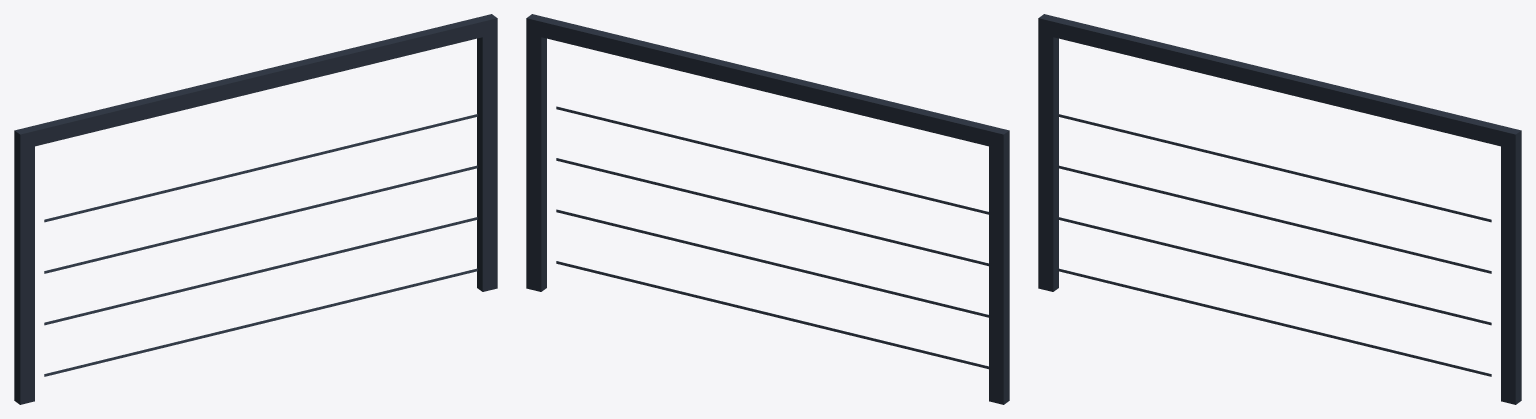
Rendered from dock-door-frame-crafted-surface.glb.
3 views of the same model, side by side, from view 1: azimuth 30°, elevation 25°; view 2: azimuth 150°, elevation 25°; view 3: azimuth 330°, elevation 25° (orthographic).
Visible parts, largest first — view 1: Authored shadows false:false; view 2: Authored shadows false:false; view 3: Authored shadows false:false.
Boxes of the visible parts, x1=… form: Authored shadows false:false: x1=14, y1=14, x2=497, y2=404; Authored shadows false:false: x1=526, y1=14, x2=1009, y2=404; Authored shadows false:false: x1=1038, y1=14, x2=1521, y2=404.
Size of the model in its own units: 1 by 0.5412 by 0.0294.
